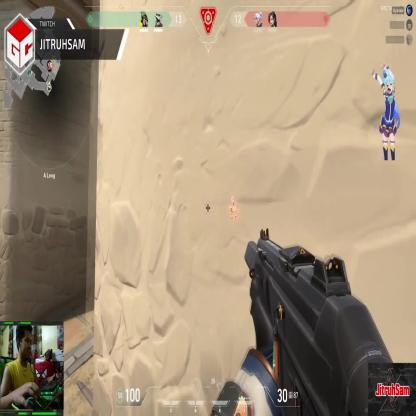enemy: (229, 196, 236, 220)
enemy_head: (231, 196, 234, 203)
